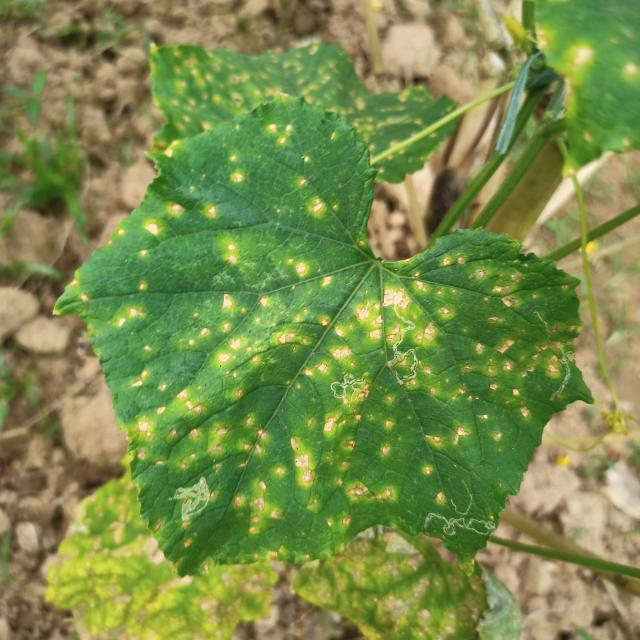disease_cucumber: (81, 256, 573, 550), (296, 179, 327, 221), (266, 120, 295, 152), (137, 221, 161, 259), (169, 203, 220, 218), (228, 154, 246, 188), (224, 239, 238, 266)
